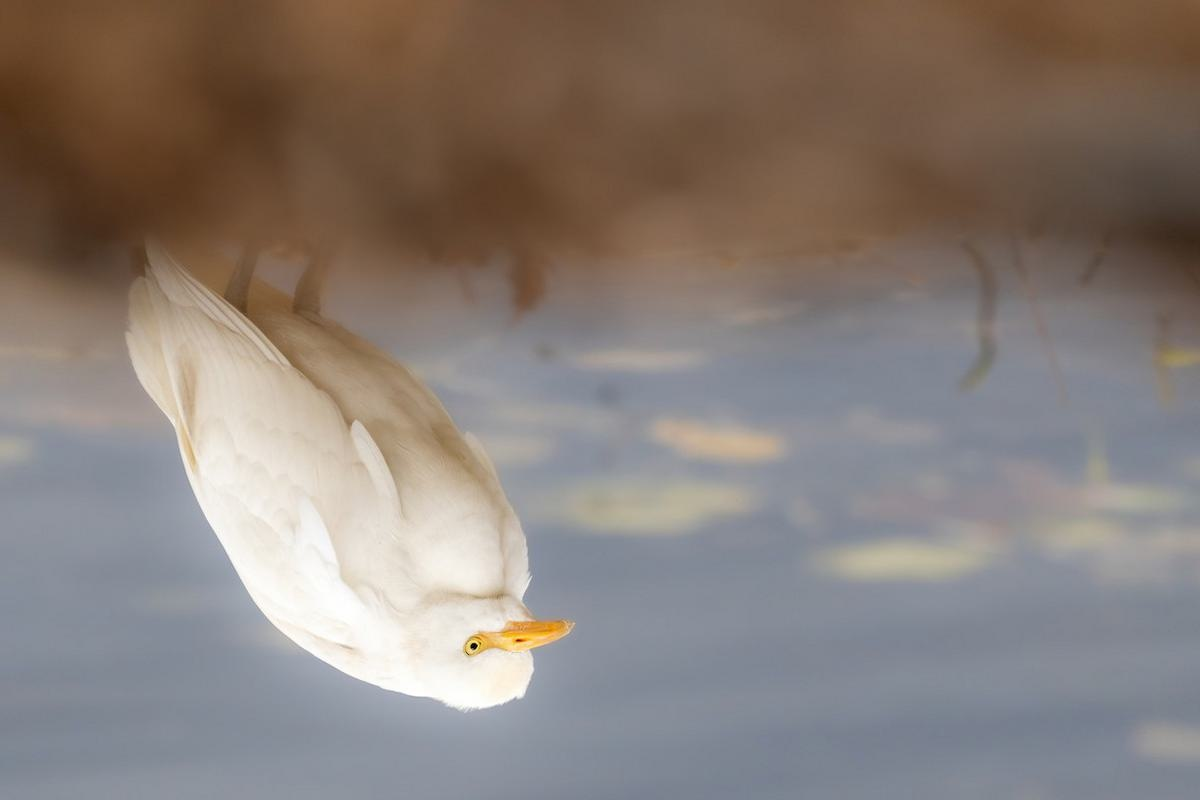egret: (125, 216, 594, 723)
